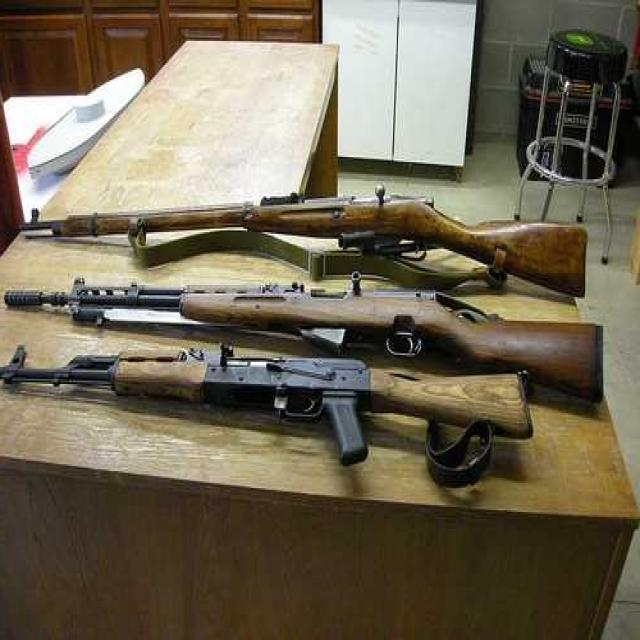heavyweapon: (1, 264, 623, 392), (1, 328, 547, 472), (4, 165, 602, 295)
